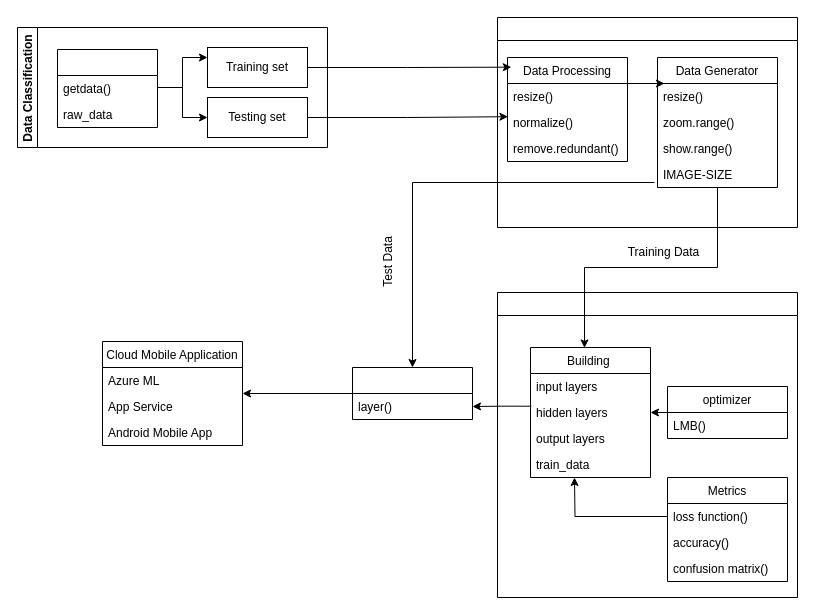
The diagram is 815 pixels wide and 615 high, and some of its shapes have lost their labels. The box of each missing label's shape, as (x1, y1, x2, y2) in pixels:
Data Augmentation: (496, 16, 798, 228)
Dataset: (56, 48, 158, 128)
Model Building and Training: (496, 292, 798, 598)
Trained_model: (352, 366, 472, 420)
